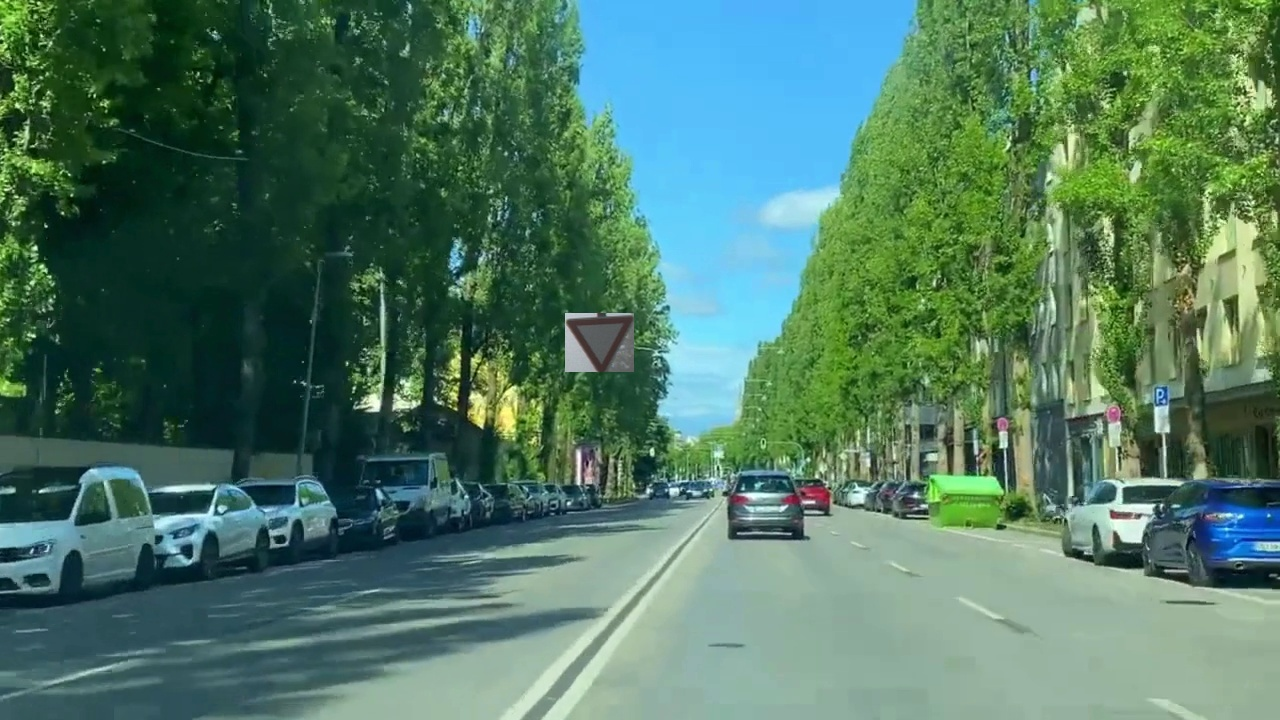Yield: (565, 313, 634, 372)
